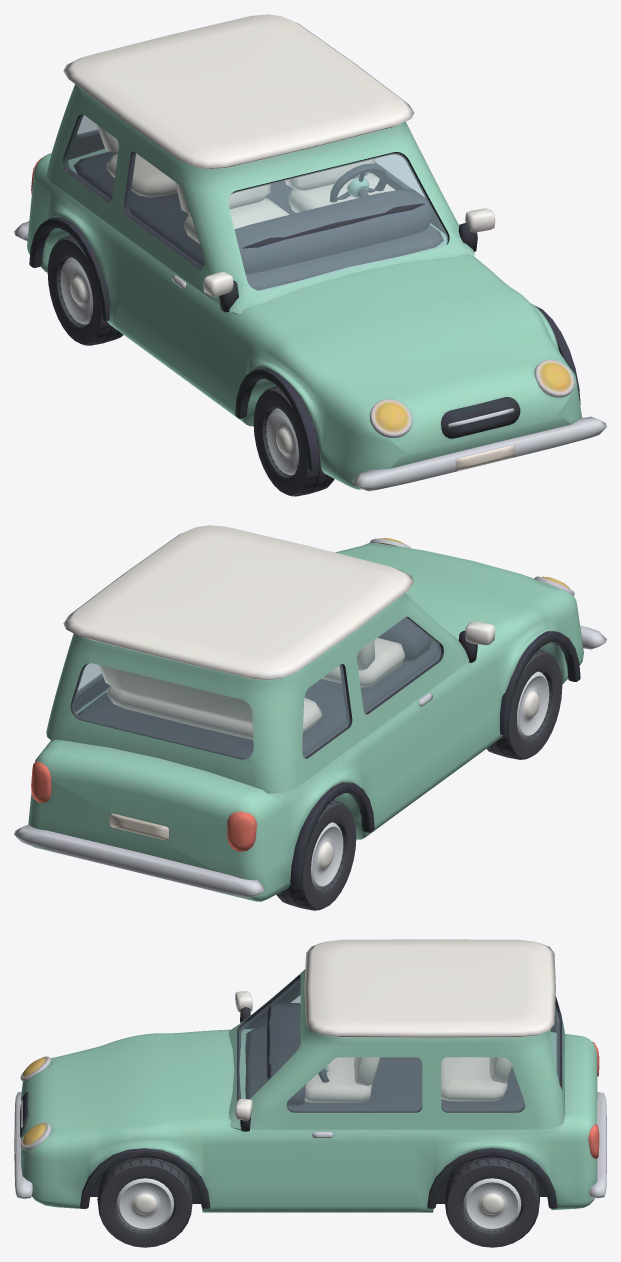
Rendered from compact-car.glb.
The picture shows the model from 3 angles, top to bottom: view 1: azimuth 30°, elevation 25°; view 2: azimuth 150°, elevation 25°; view 3: azimuth 270°, elevation 25°; orthographic projection. The views are drawn at different scales.
Visible parts, largest first — view 1: compact-car_body, compact-car_windows, compact-car_wheel_fr, compact-car_wheel_rr; view 2: compact-car_body, compact-car_windows, compact-car_wheel_rr, compact-car_wheel_fr; view 3: compact-car_body, compact-car_windows, compact-car_wheel_rl, compact-car_wheel_fl.
Part boxes in pixels (x1,y1,x2,y2): compact-car_body: (14, 14, 606, 491); compact-car_windows: (65, 114, 447, 290); compact-car_wheel_fr: (253, 386, 334, 496); compact-car_wheel_rr: (47, 235, 123, 345); compact-car_body: (14, 525, 606, 901); compact-car_windows: (72, 617, 440, 758); compact-car_wheel_rr: (276, 800, 356, 910); compact-car_wheel_fr: (486, 649, 562, 759); compact-car_body: (14, 939, 606, 1212); compact-car_windows: (239, 978, 559, 1111); compact-car_wheel_rl: (444, 1157, 539, 1247); compact-car_wheel_fl: (97, 1157, 192, 1247).
Size of the model in its own units: 1.76 by 1.48 by 3.72.
Materials: 6 (2 with a texture image).
